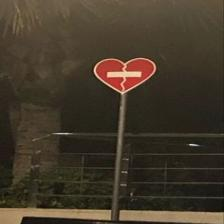red: (124, 59, 153, 90), (96, 60, 124, 91)
